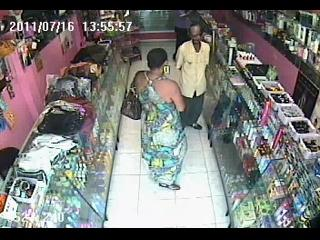Normal: (131, 48, 188, 192), (176, 24, 210, 131), (120, 90, 142, 120)
